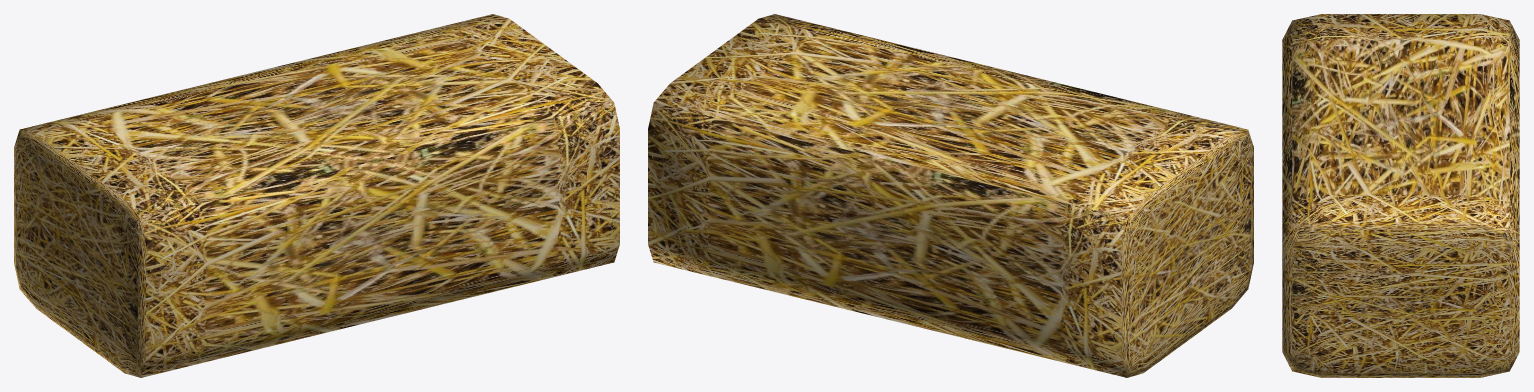
File: Hay.FBX
3 renders of one model, left to right at view 1: azimuth 30°, elevation 25°; view 2: azimuth 150°, elevation 25°; view 3: azimuth 270°, elevation 25°, orthographic. The views are drawn at different scales.
Visible parts, largest first — view 1: Box001; view 2: Box001; view 3: Box001.
Part boxes in pixels (box(x1,y1,x2,y2)): Box001: box(14, 14, 619, 377); Box001: box(648, 14, 1253, 377); Box001: box(1282, 14, 1519, 377).
Bounding box in the file's own units: 64.27 × 22.16 × 30.47.
1 material, 1 textured.
